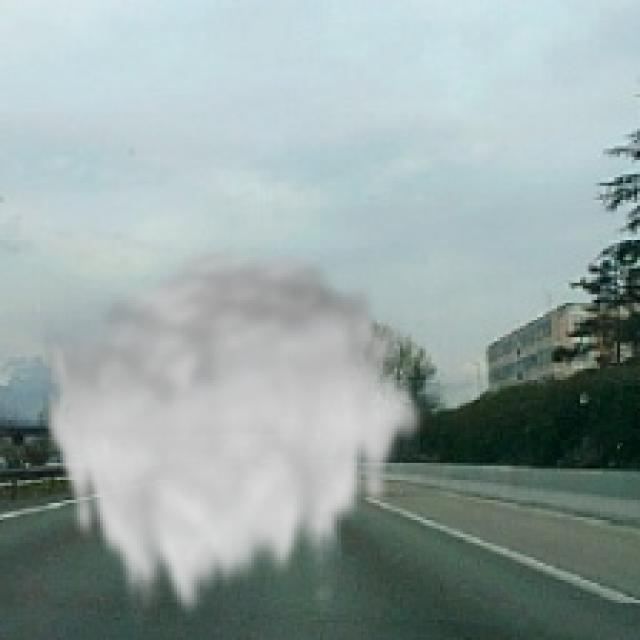smoke: (40, 237, 429, 629)
